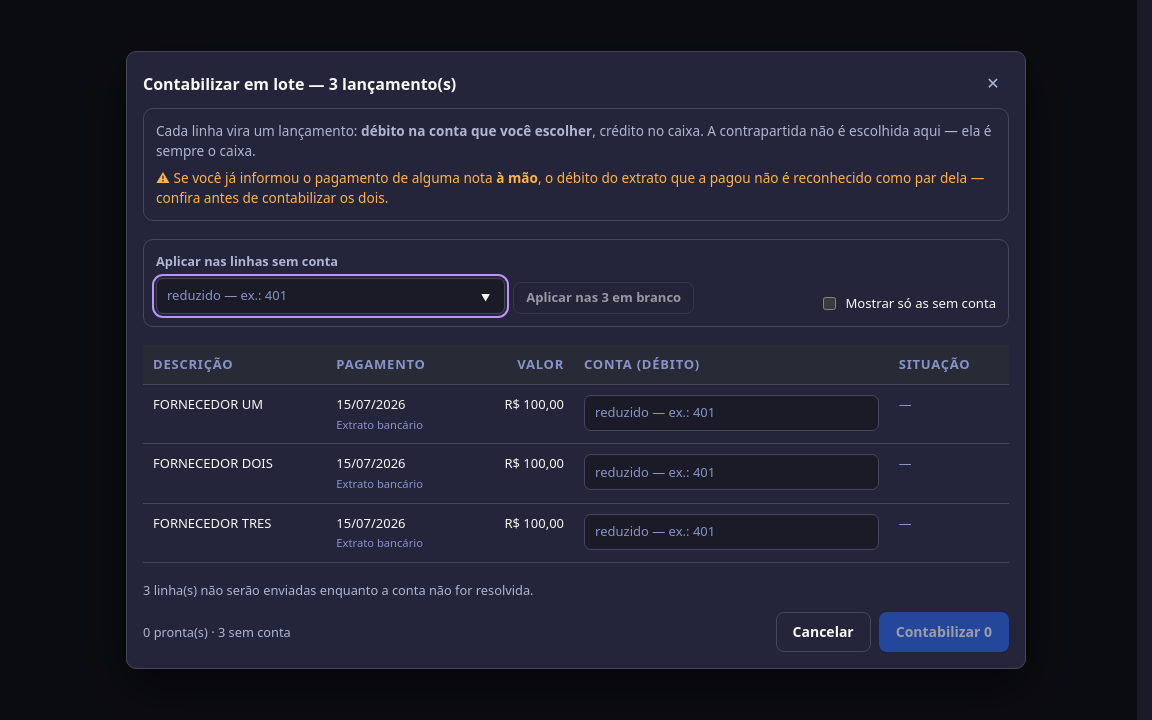
Test: ⚠⚠ a aplicação em massa só toca as pendentes › preenche as vazias e NÃO sobrescreve a que foi digitada à mão
The image size is (1152, 720).
// o contador digita na SEGUNDA linha
In the field named "Conta contábil da despesa": (731, 472) [584,454,879,490], type "401"
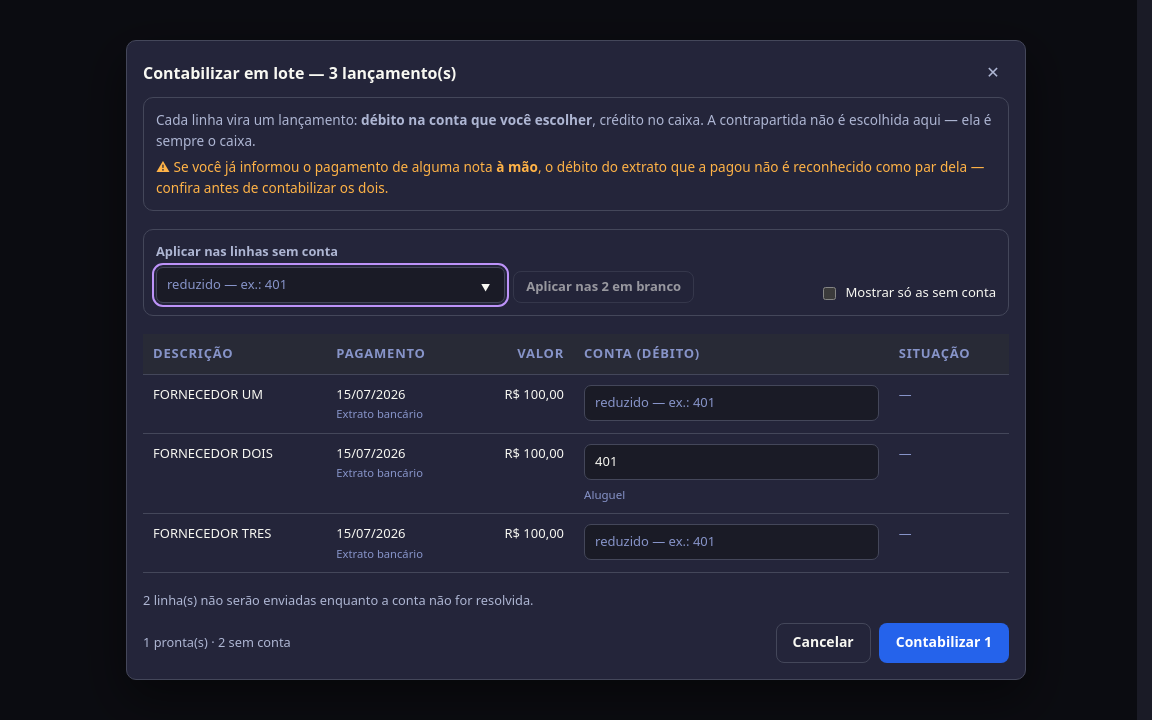
In the field labelled "Aplicar nas linhas sem conta": (331, 285) [156,267,505,303], type "402"
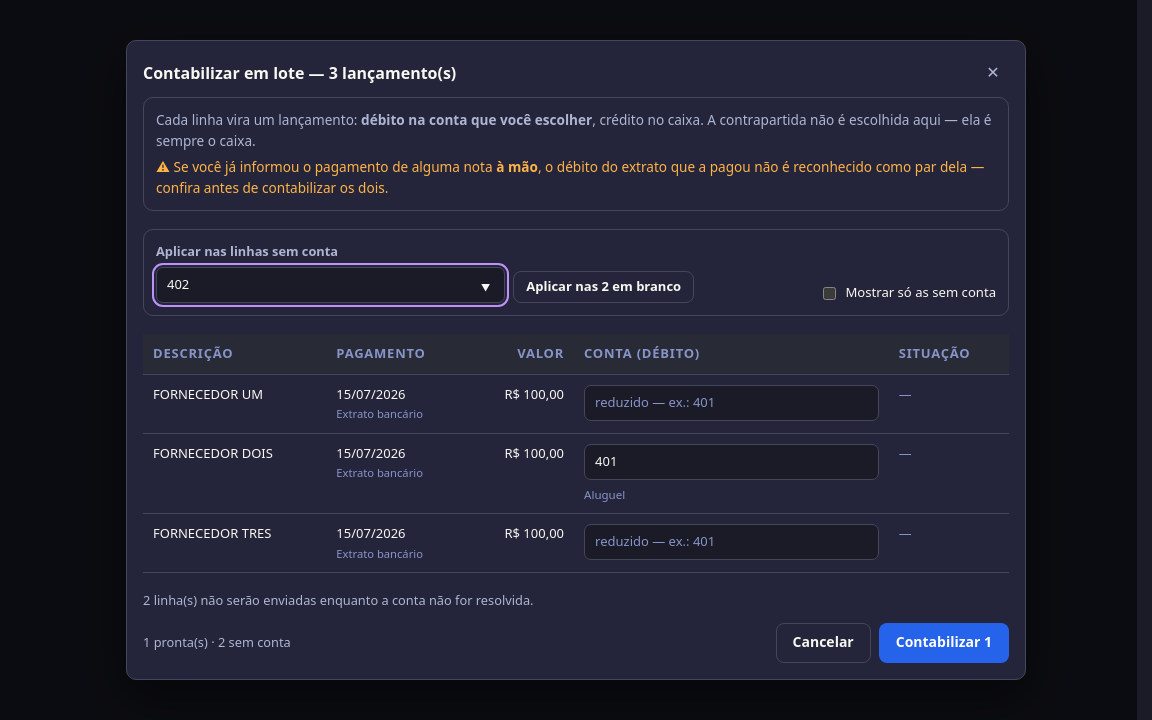
Click the button "Aplicar nas 2 em branco": (604, 287) [513,271,694,303]
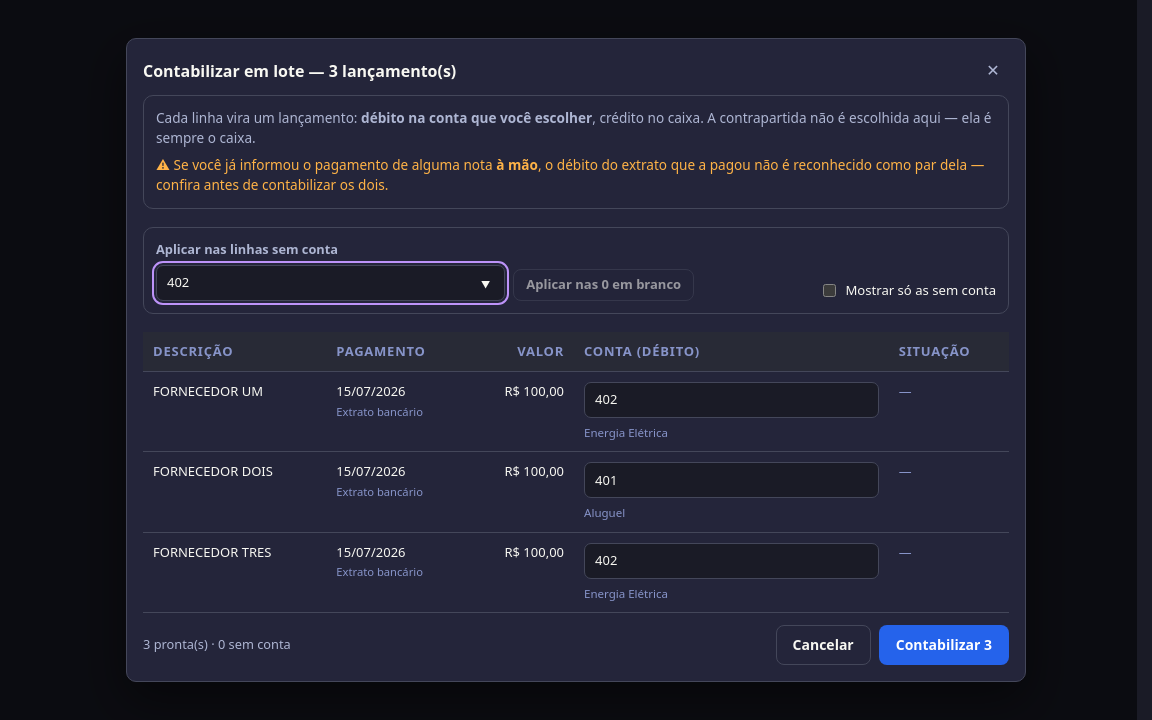
Now the field named "Conta contábil da despesa" holds "402", box [584,382,879,418]
